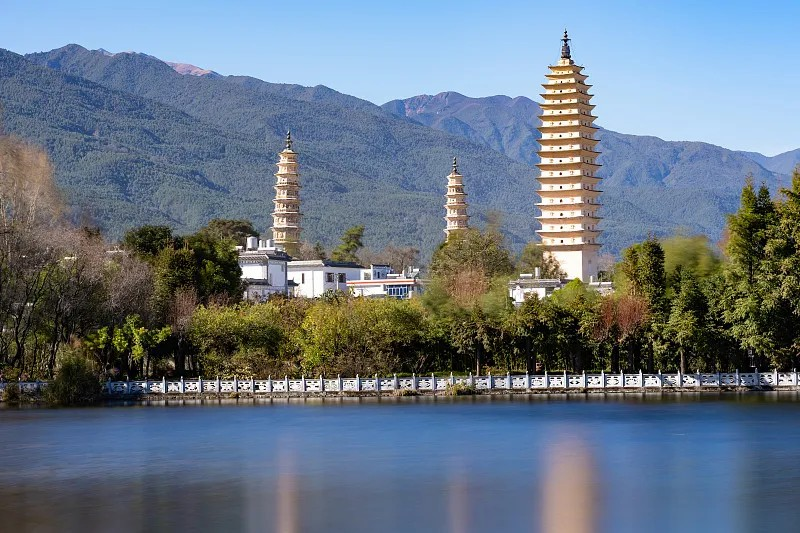ThreePagoda: (535, 29, 603, 282)
